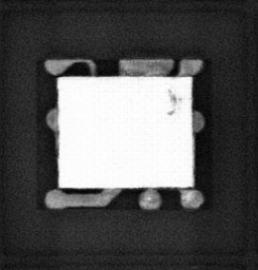DIE_INK: (164, 89, 181, 115)
